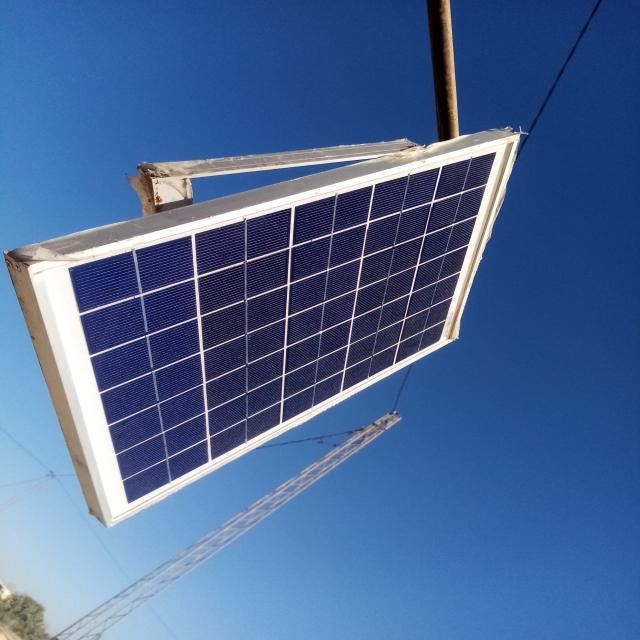no faulty: (27, 135, 513, 526)
